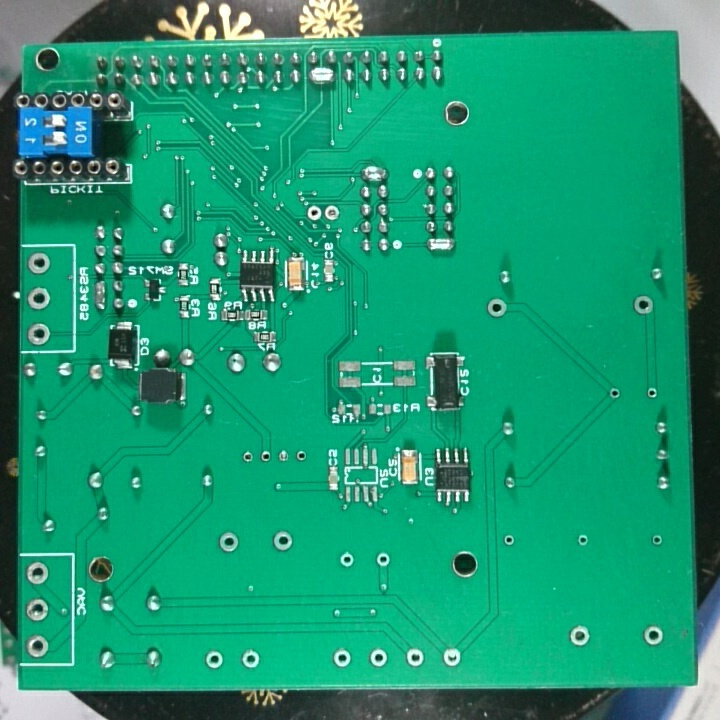F: (24, 250, 53, 278), (25, 285, 51, 312), (24, 559, 50, 586), (25, 596, 50, 624), (215, 529, 242, 554), (25, 321, 51, 346), (567, 623, 592, 649), (640, 623, 665, 648), (25, 635, 50, 659), (271, 528, 293, 555), (630, 293, 654, 317), (239, 647, 262, 672), (485, 295, 508, 320), (441, 644, 463, 669), (366, 646, 389, 669), (203, 648, 225, 672), (331, 646, 353, 669), (403, 646, 425, 668), (336, 549, 356, 569), (322, 202, 341, 223), (373, 550, 393, 569), (304, 203, 322, 223), (500, 530, 518, 550), (238, 447, 255, 468), (574, 532, 592, 550), (275, 446, 291, 466), (257, 447, 273, 467), (648, 532, 666, 549), (644, 384, 660, 402), (293, 446, 307, 466), (606, 385, 622, 402)
P: (308, 64, 336, 86), (91, 277, 108, 312), (359, 163, 390, 182), (425, 235, 453, 255)
